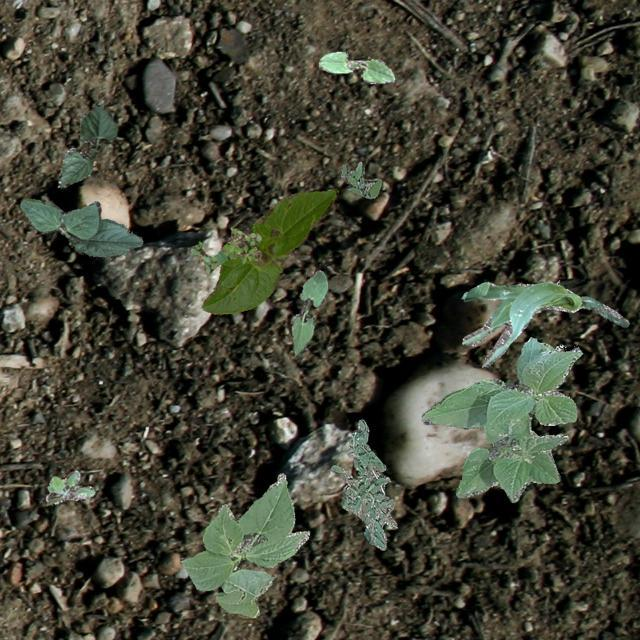crop: (420, 336, 582, 502), (178, 472, 308, 616), (200, 188, 336, 314), (461, 280, 628, 366), (18, 198, 142, 256), (56, 104, 116, 186), (290, 270, 326, 354), (317, 51, 393, 82)
weed: (330, 418, 396, 548), (190, 226, 260, 272), (44, 468, 94, 504), (340, 160, 380, 198)
